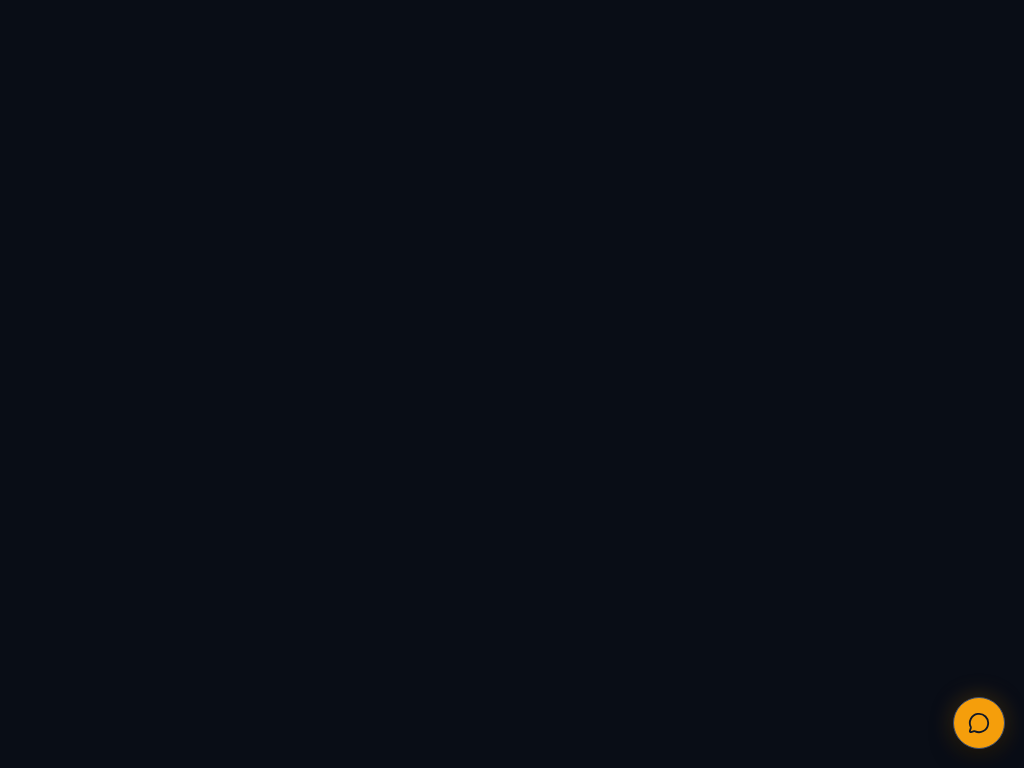
Test: AssistantWidget › is closed initially, opens from the FAB, and sends the conversationId on the second message
Later steps or results of the test are not shown.
Click the button named "open assistant chat": point(979, 723) [953,697,1005,749]
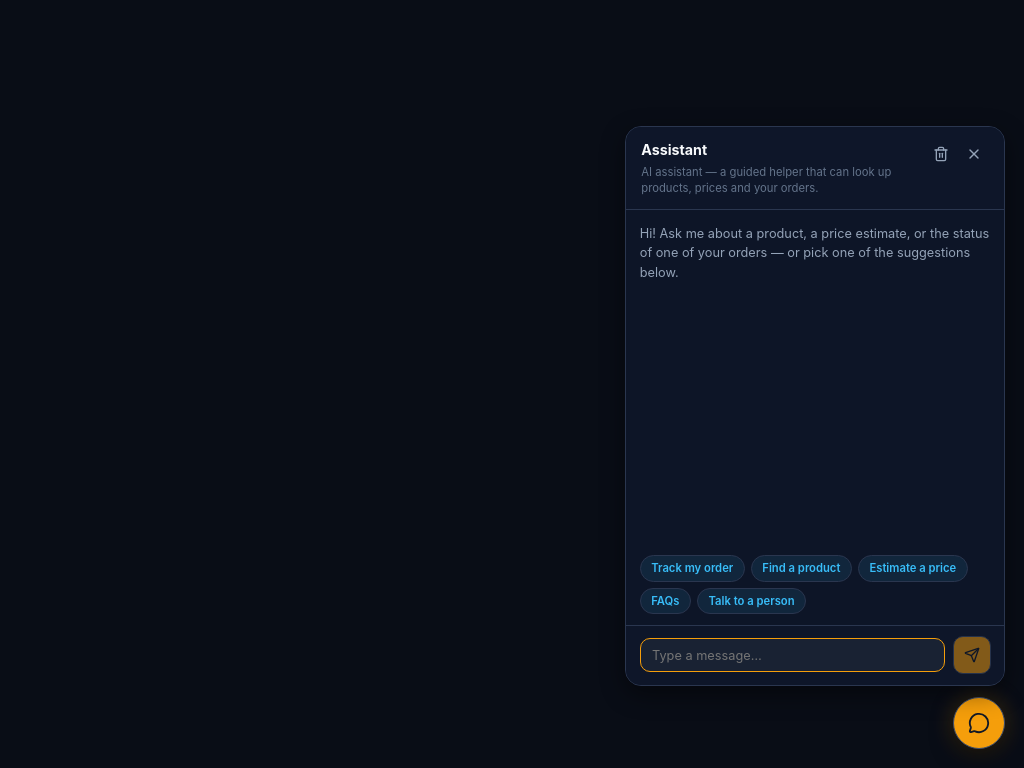
Result: the text "AI assistant — a guided helper" is shown at [641,165,891,195]
